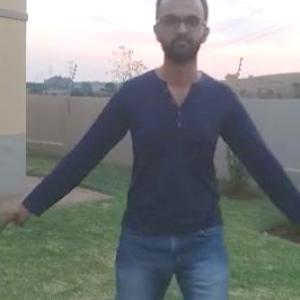land: (2, 0, 299, 299)
